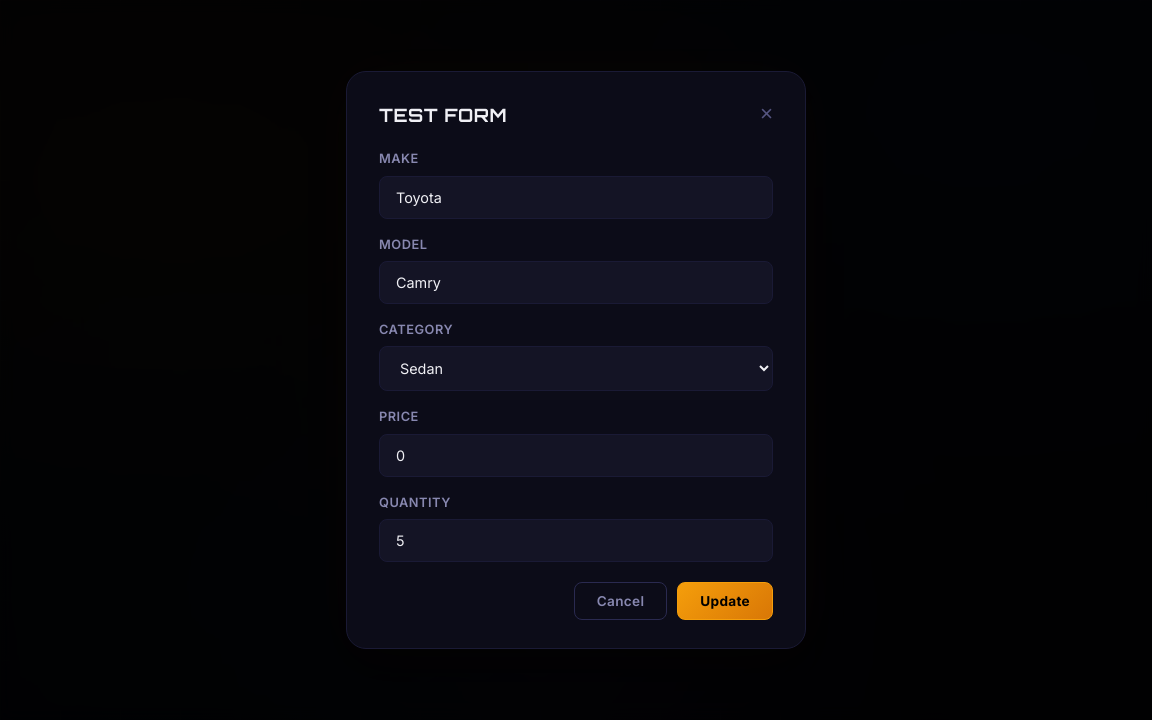
Test: VehicleForm › validates price must be > 0
The image size is (1152, 720).
What coordinates should you click on to do the following:
click the button "Update"
I would click on:
 (725, 601)
Its box is [677,582,773,620].
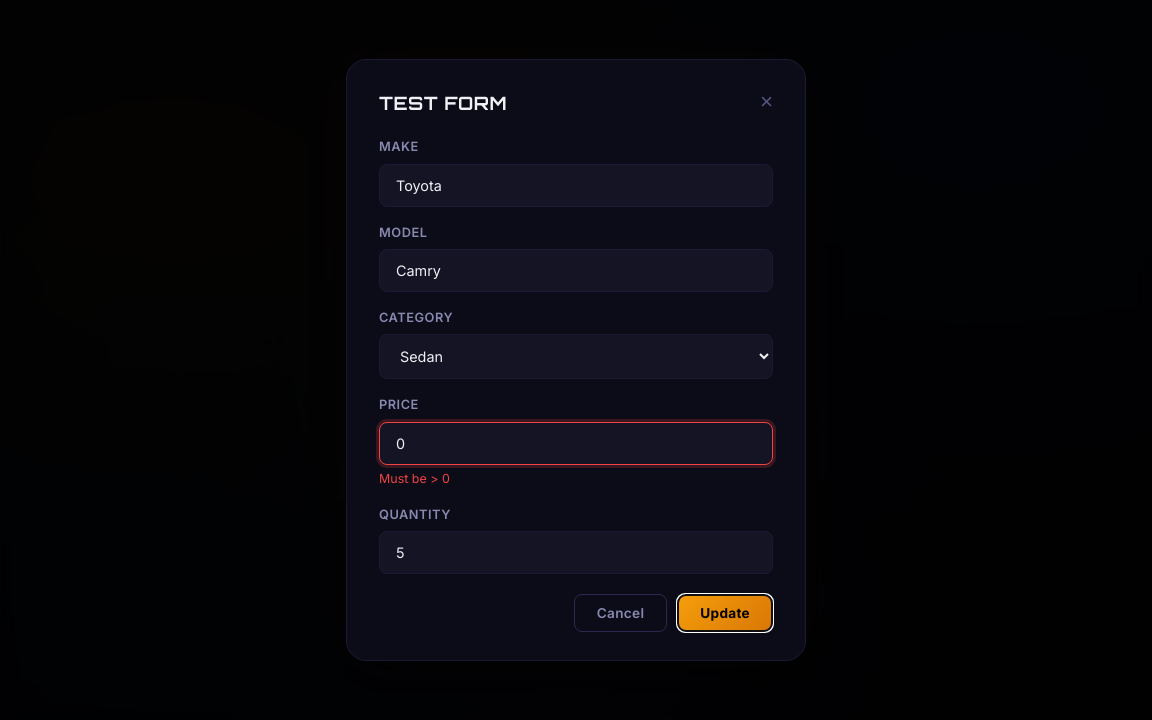
Expected: the text "Must be > 0" is shown, [379,471,450,486]
